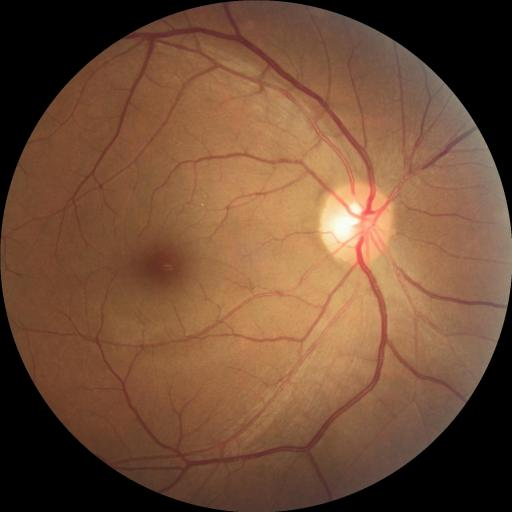Optic Cup: (334, 202, 370, 245)
Optic Disc: (319, 182, 395, 266)
